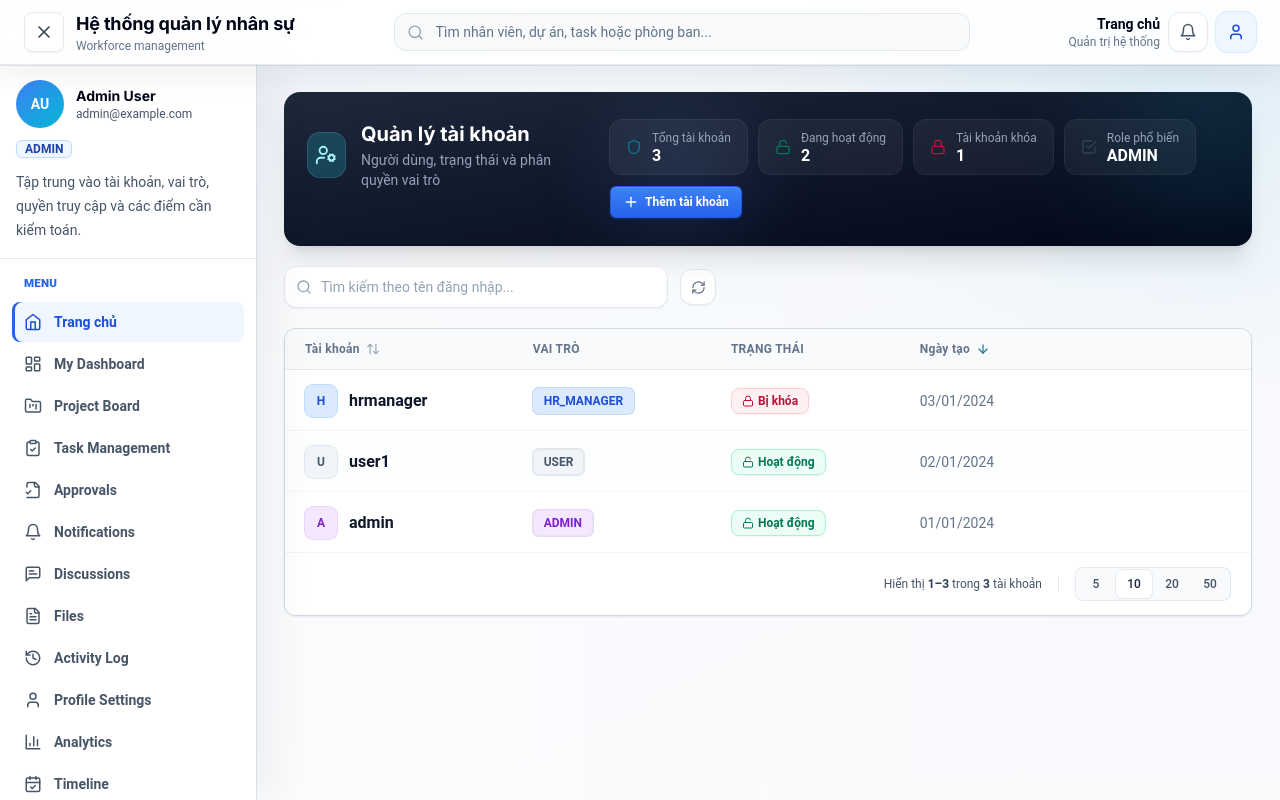
Test: UserManagementPage › Search Functionality › should filter users by username
The width and height of the screenshot is (1280, 800).
Expected: the text "admin" is shown, [349,510,394,534]
Type in search
Type "admin" into the field with placeholder "Tìm kiếm theo tên đăng nhập...". click: x=476, y=287
box: [284,266,668,308]
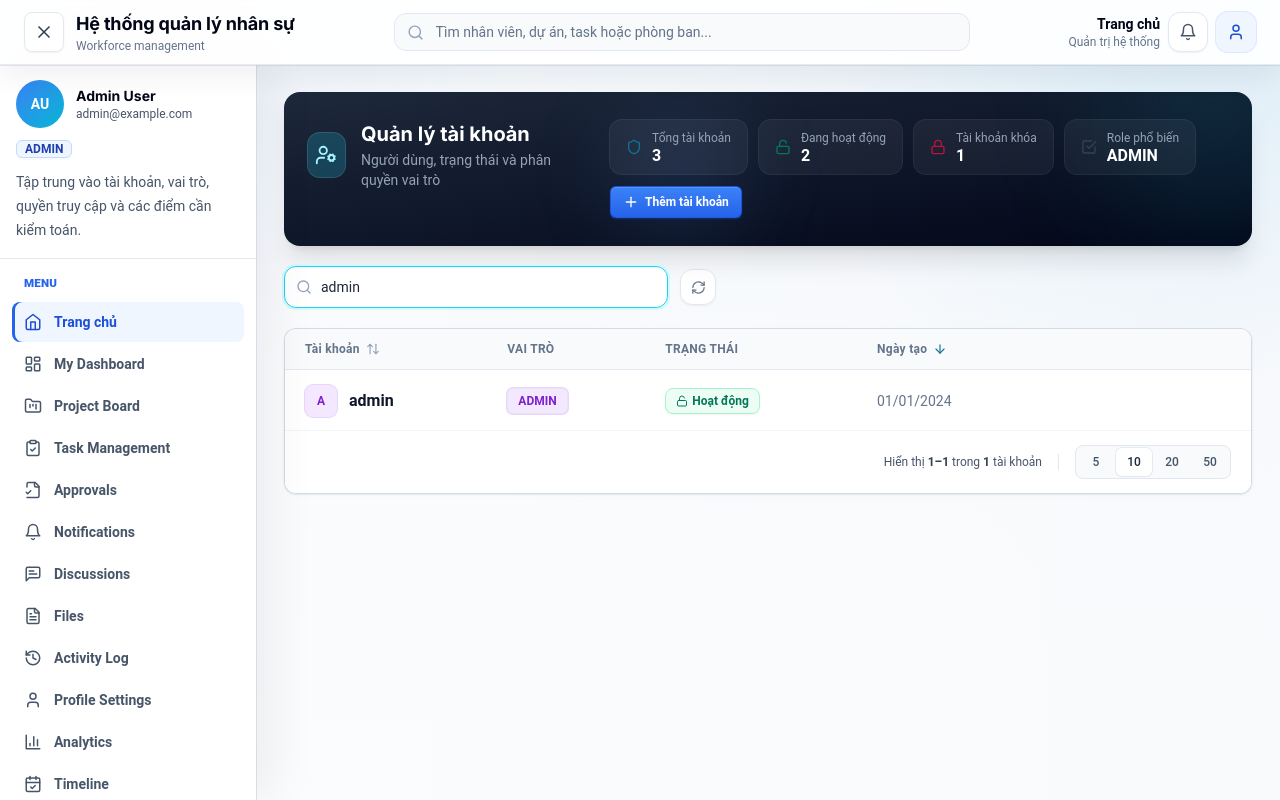
Expected: the text "admin" is shown, [349,388,394,412]
Now the text "user1" is gone
